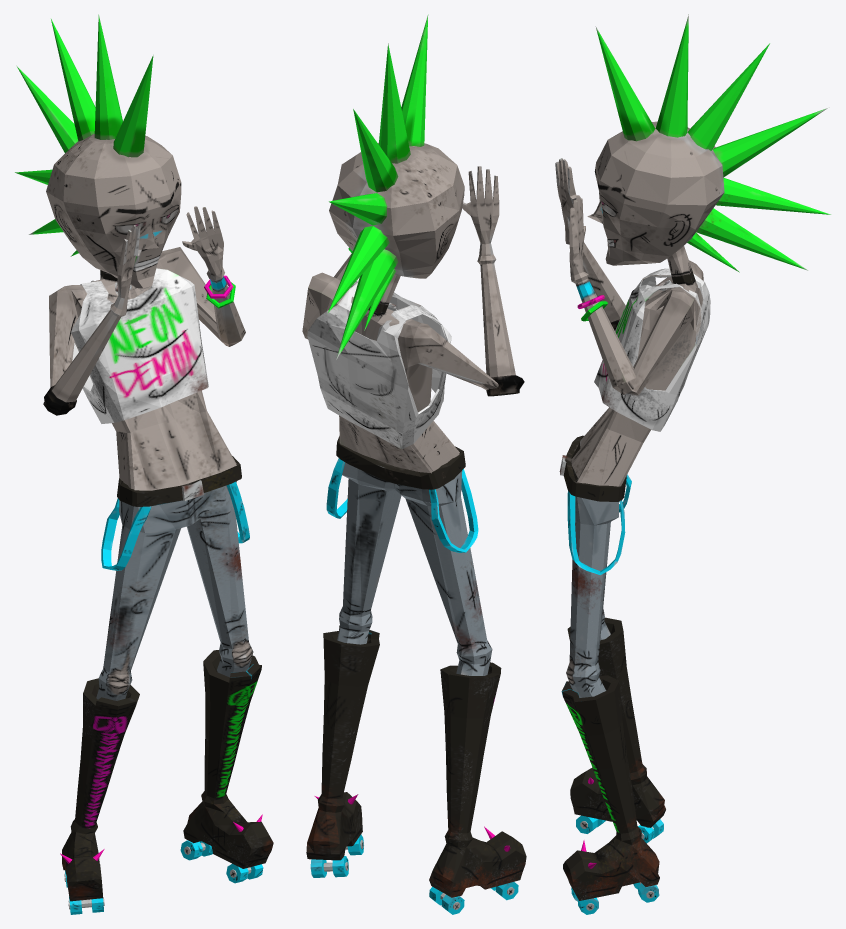
Rendered from punkAnimation_000020.obj.
The picture shows the model from 3 angles, left to right: view 1: azimuth 30°, elevation 25°; view 2: azimuth 150°, elevation 25°; view 3: azimuth 270°, elevation 25°; orthographic projection. The views are drawn at different scales.
Visible parts, largest first — view 1: Cube.004_Cube.003; view 2: Cube.004_Cube.003; view 3: Cube.004_Cube.003.
Part boxes in pixels (x1,y1,x2,y2): Cube.004_Cube.003: (15, 14, 273, 914); Cube.004_Cube.003: (302, 14, 526, 914); Cube.004_Cube.003: (555, 14, 830, 914).
Bounding box in the file's own units: 1.92 × 7.47 × 2.21.
